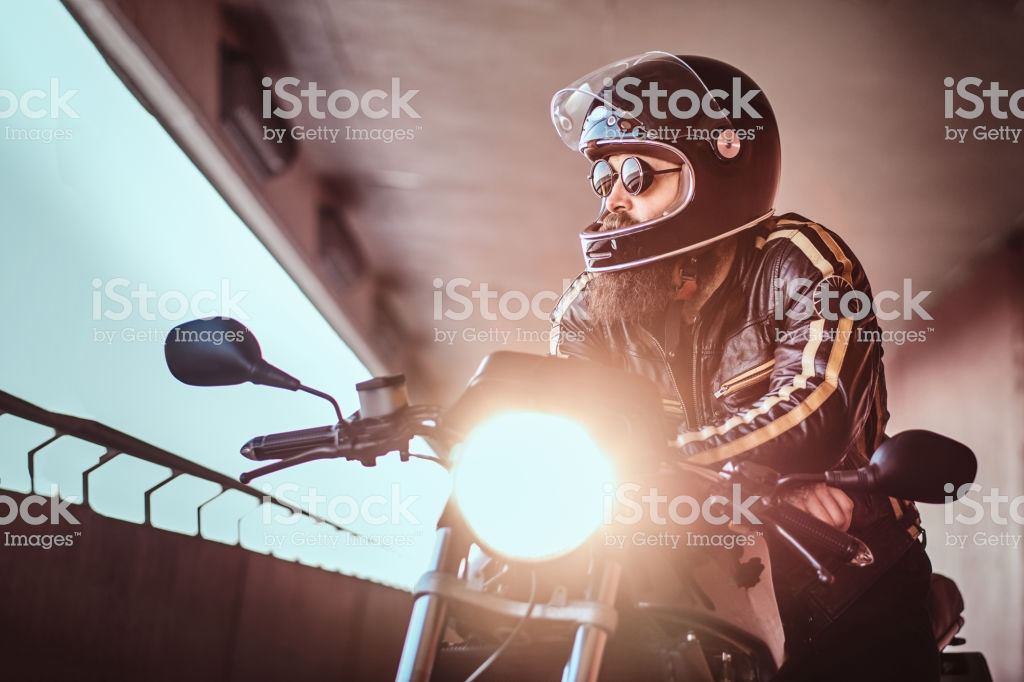helmet: (561, 43, 788, 263)
